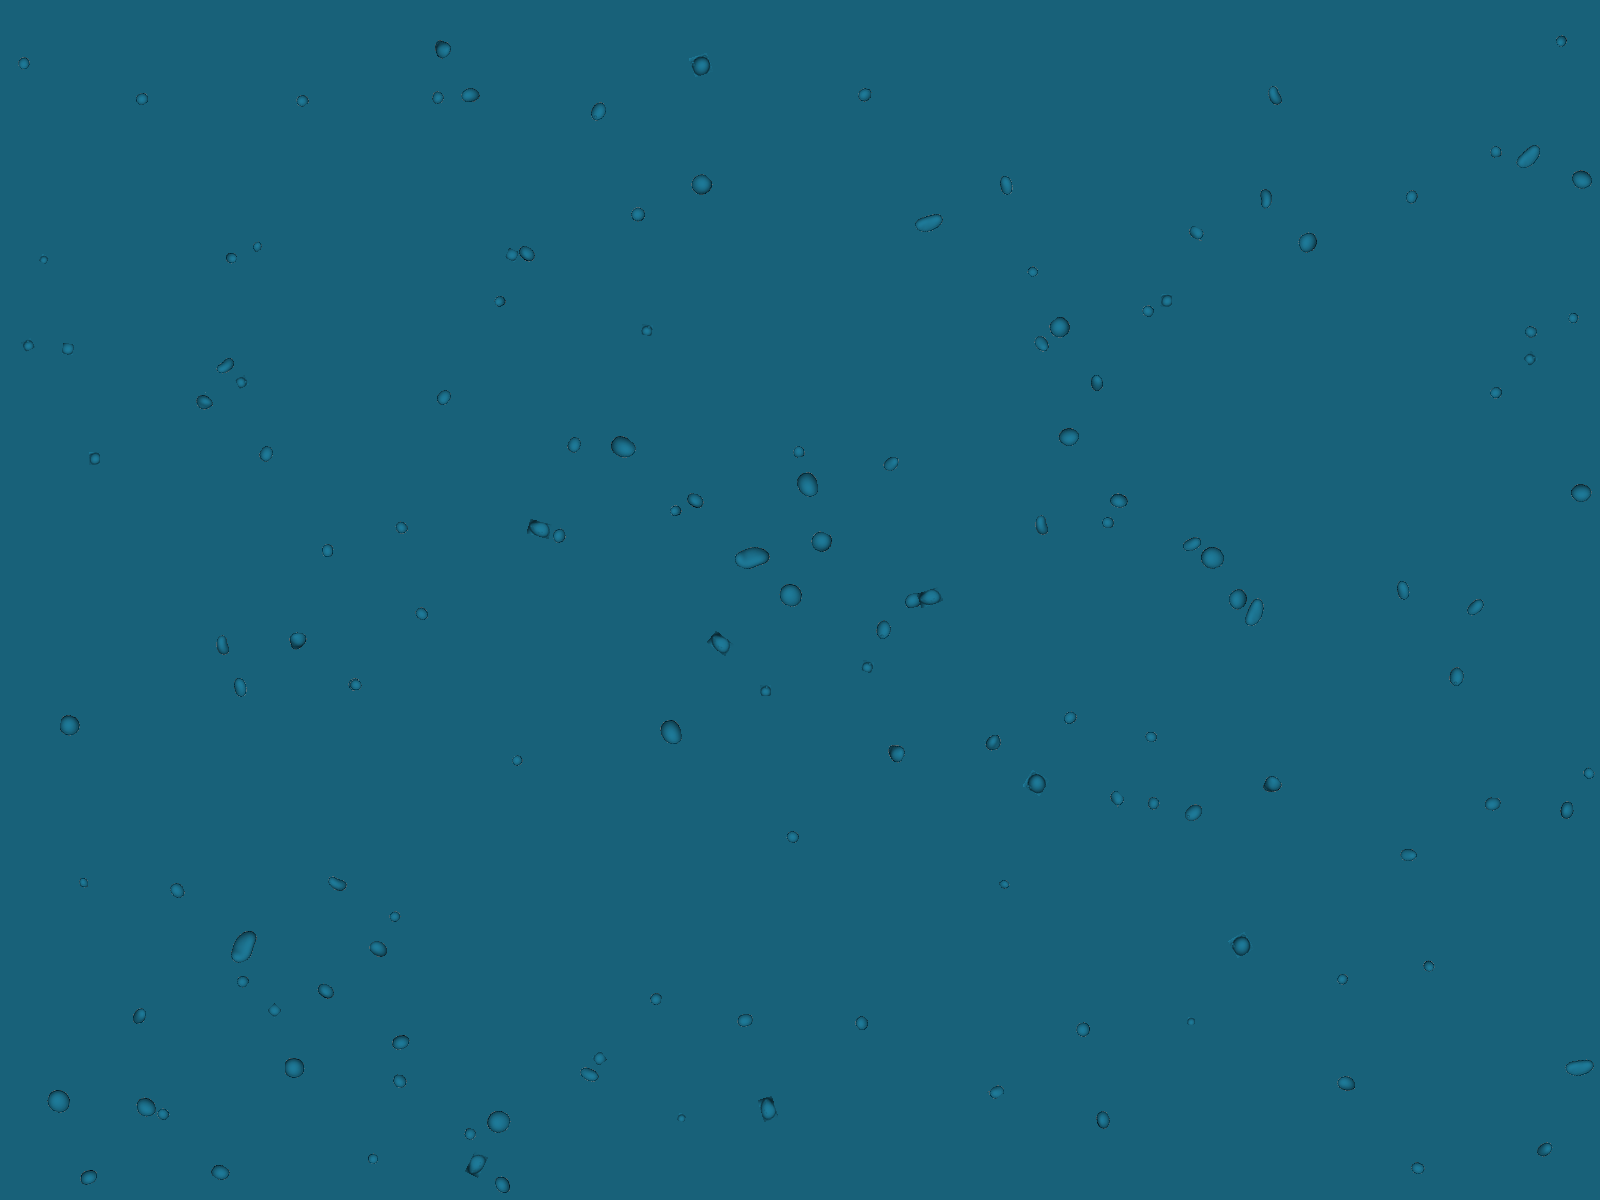drop: (729, 537, 774, 579), (220, 926, 266, 967), (1512, 139, 1546, 176), (910, 208, 947, 239), (606, 431, 640, 464), (1196, 541, 1230, 574), (483, 1105, 515, 1138), (1561, 1054, 1597, 1082), (685, 169, 716, 200), (1044, 313, 1075, 344), (1222, 584, 1252, 614), (1566, 479, 1596, 509), (1243, 595, 1267, 632), (1054, 424, 1083, 453), (1567, 166, 1596, 195), (1256, 771, 1285, 800), (881, 737, 910, 766), (427, 33, 456, 62), (323, 870, 351, 897), (1293, 228, 1322, 256), (806, 528, 835, 556), (658, 717, 684, 747), (777, 581, 805, 609), (576, 1061, 603, 1089), (1227, 932, 1255, 959), (1022, 769, 1049, 797), (706, 630, 734, 657), (795, 470, 820, 500), (210, 354, 239, 379), (464, 1150, 489, 1179), (1106, 488, 1133, 514), (688, 52, 714, 78), (57, 713, 83, 740), (1395, 843, 1421, 868), (47, 1088, 72, 1114), (1443, 664, 1469, 689), (871, 616, 896, 643), (994, 171, 1019, 198), (457, 83, 483, 108), (228, 674, 253, 700), (1391, 577, 1416, 603), (916, 586, 944, 609), (1083, 371, 1109, 395), (134, 1095, 157, 1121), (285, 630, 309, 655), (1091, 1107, 1114, 1133), (757, 1095, 779, 1123), (626, 203, 650, 227), (586, 100, 610, 124), (208, 1161, 233, 1184), (1264, 82, 1285, 108), (527, 518, 553, 539), (1464, 596, 1488, 619), (1519, 321, 1543, 344), (254, 442, 277, 466), (191, 391, 215, 413), (283, 1058, 306, 1082), (514, 243, 539, 265), (312, 981, 338, 1002), (849, 1013, 872, 1036), (427, 86, 450, 108), (563, 434, 585, 458), (1256, 187, 1276, 212), (1334, 1073, 1357, 1094), (1143, 792, 1165, 813), (391, 518, 413, 539), (432, 387, 455, 408), (1180, 534, 1204, 555), (547, 526, 568, 547), (411, 604, 432, 625), (129, 1005, 150, 1026), (1534, 1138, 1556, 1160), (1031, 333, 1051, 355), (683, 492, 707, 511), (881, 455, 902, 475), (391, 1032, 412, 1053), (1487, 382, 1507, 403), (1060, 707, 1080, 729), (291, 89, 312, 110), (231, 971, 252, 991), (983, 734, 1004, 754), (151, 1104, 173, 1124), (1107, 788, 1128, 809), (1417, 955, 1437, 977), (902, 591, 925, 610), (168, 879, 186, 901), (853, 84, 873, 105), (1401, 187, 1421, 207), (1136, 301, 1157, 321), (986, 1082, 1007, 1102), (490, 290, 510, 310), (391, 1073, 409, 1093), (79, 1168, 100, 1187), (493, 1175, 511, 1195), (1409, 1158, 1427, 1179), (461, 1126, 481, 1145), (1186, 224, 1207, 242), (1033, 513, 1049, 536), (214, 633, 231, 655), (1024, 263, 1043, 282), (645, 989, 664, 1008), (784, 827, 803, 846), (1579, 764, 1597, 783), (666, 500, 685, 519), (1073, 1021, 1094, 1039), (506, 753, 527, 770), (1558, 799, 1575, 821), (1184, 803, 1202, 822), (386, 908, 404, 925), (1551, 32, 1570, 49), (222, 250, 239, 268), (15, 54, 33, 72), (345, 676, 363, 693), (368, 940, 387, 957), (1565, 310, 1581, 328), (789, 442, 806, 459), (1522, 350, 1540, 367), (266, 1002, 283, 1018), (591, 1050, 609, 1066), (734, 1013, 753, 1029), (1100, 513, 1116, 529), (1487, 142, 1503, 159), (1334, 971, 1351, 987), (134, 91, 150, 107), (20, 337, 37, 353), (504, 247, 520, 263), (997, 876, 1013, 892), (319, 543, 335, 558), (249, 238, 265, 255), (1483, 797, 1500, 811), (860, 659, 876, 674), (234, 374, 249, 389), (367, 1152, 382, 1166), (60, 342, 76, 355), (640, 323, 654, 337), (1160, 292, 1173, 308), (88, 451, 101, 466), (348, 679, 363, 692), (1144, 730, 1159, 742), (758, 684, 772, 697), (77, 876, 89, 889), (38, 253, 50, 265), (677, 1112, 687, 1123), (1186, 1016, 1196, 1026)
